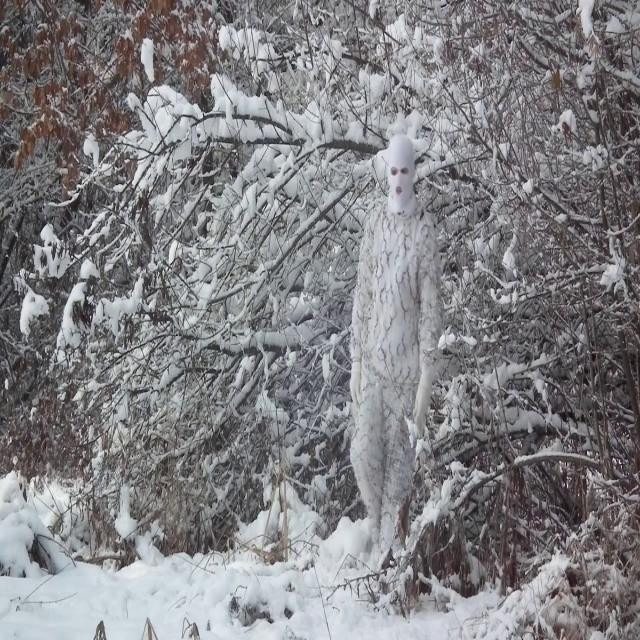Camouflage: (348, 134, 441, 581)
